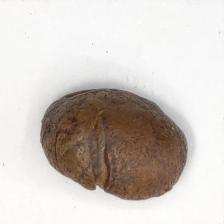NG: (87, 129, 117, 196), (40, 112, 65, 179)
